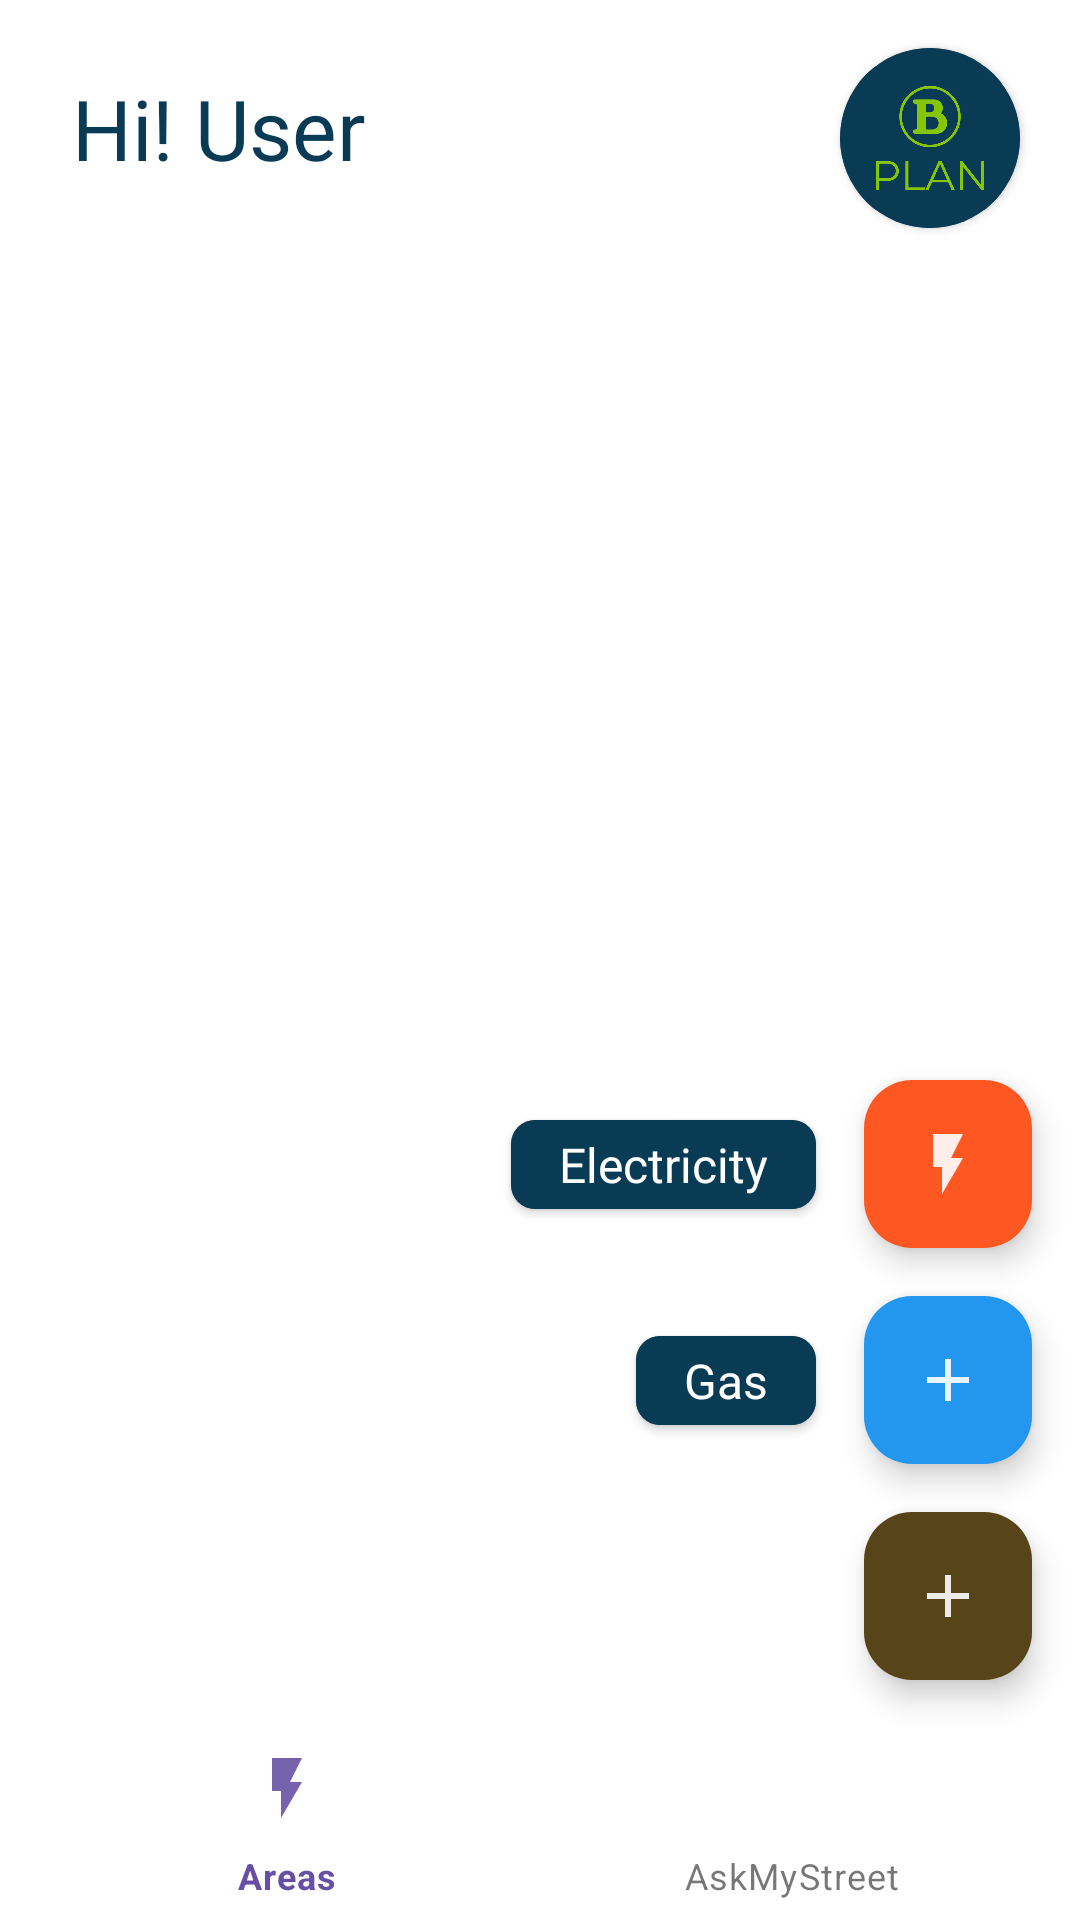

Where icons sit on this 1080 × 1920 app screen, as (x1, y1, x2, y2):
add: (864, 1296, 1032, 1464), (864, 1512, 1032, 1680)
